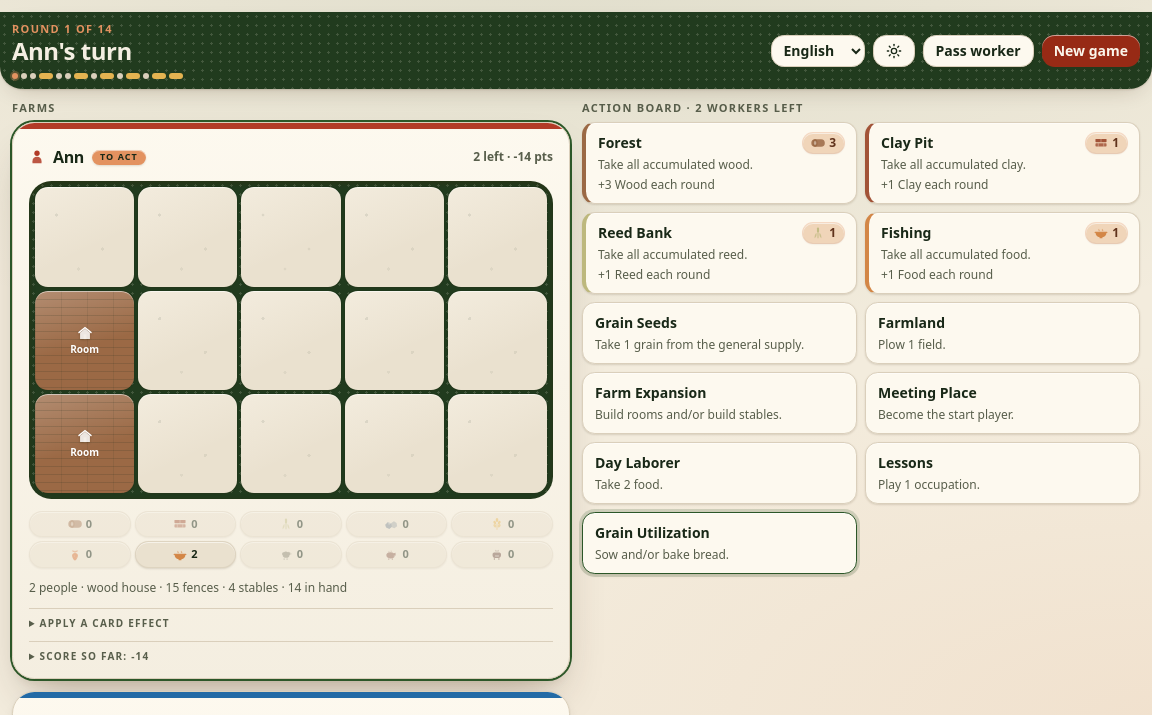
Test: taking actions › passes a worker without taking a space
The width and height of the screenshot is (1152, 715).
Click the button "Pass worker": click(978, 51) [922,35,1034,67]
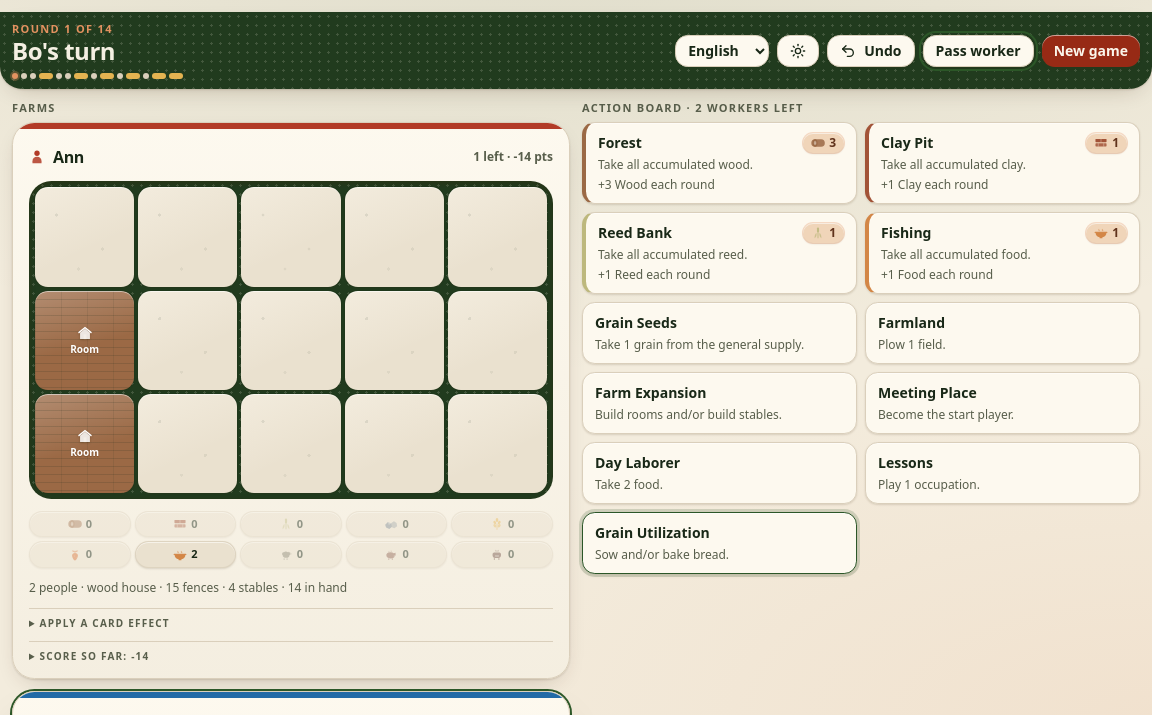
Result: the heading "Bo's turn" is shown at [12,34,115,67]
